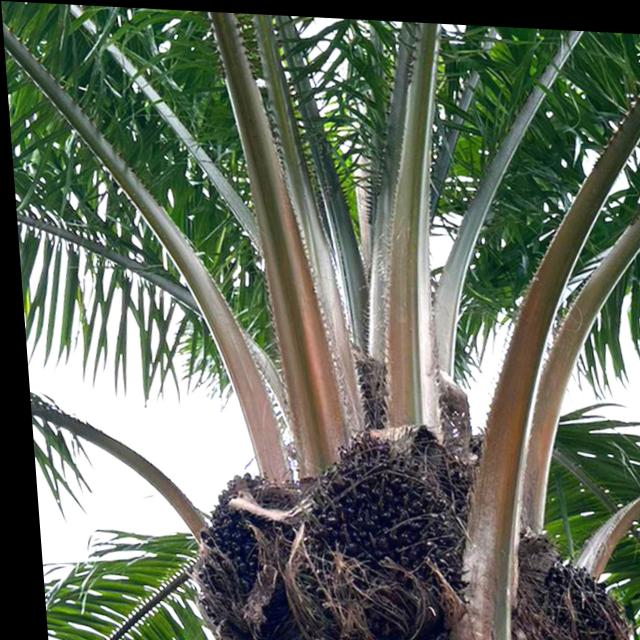almost: (287, 430, 464, 640), (179, 460, 290, 640), (515, 552, 622, 640)
